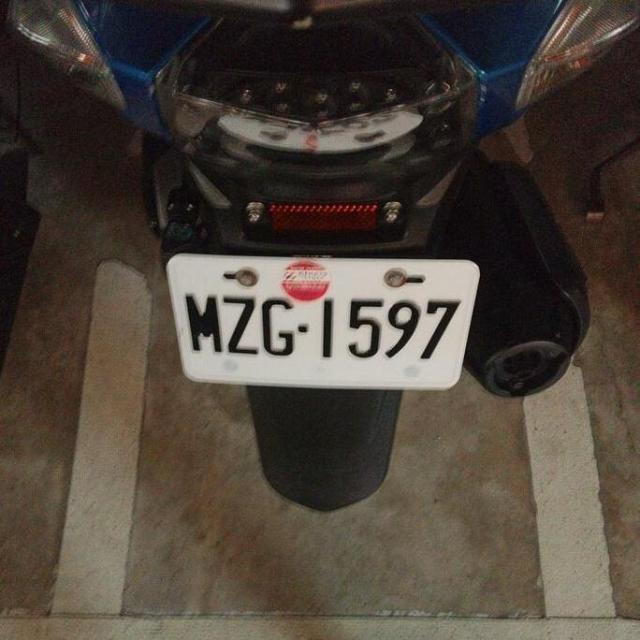W: (158, 243, 481, 400)
